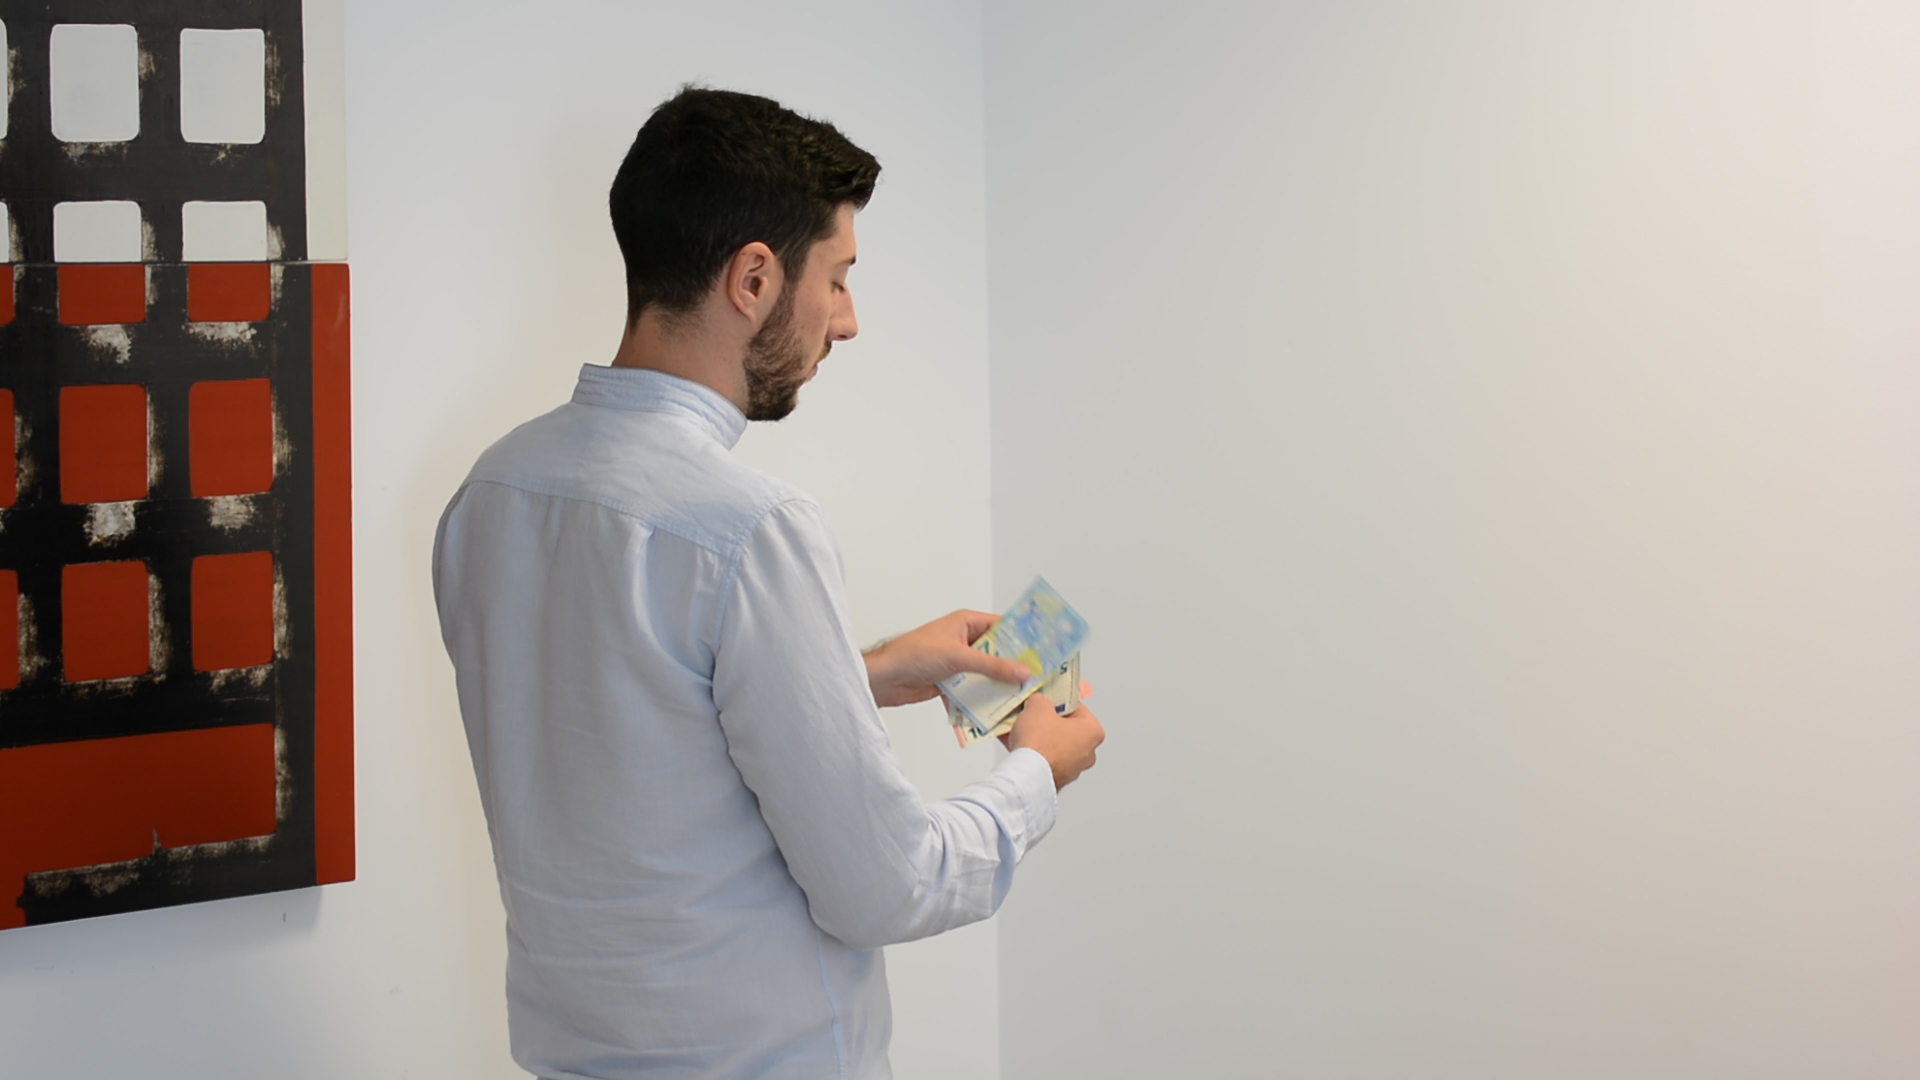billete: (935, 574, 1097, 750)
